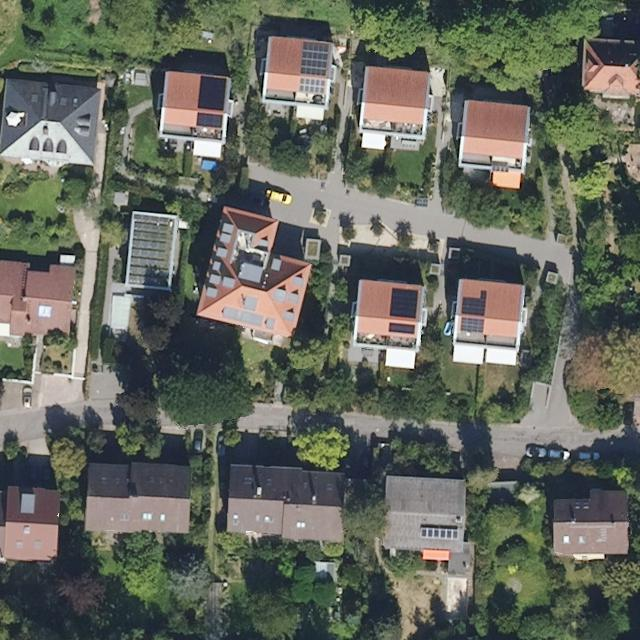PV: (299, 40, 331, 77), (197, 75, 228, 111), (389, 287, 419, 321), (461, 290, 487, 317), (298, 77, 326, 95), (460, 316, 486, 335), (196, 112, 224, 129), (421, 528, 458, 539), (388, 322, 415, 336)
